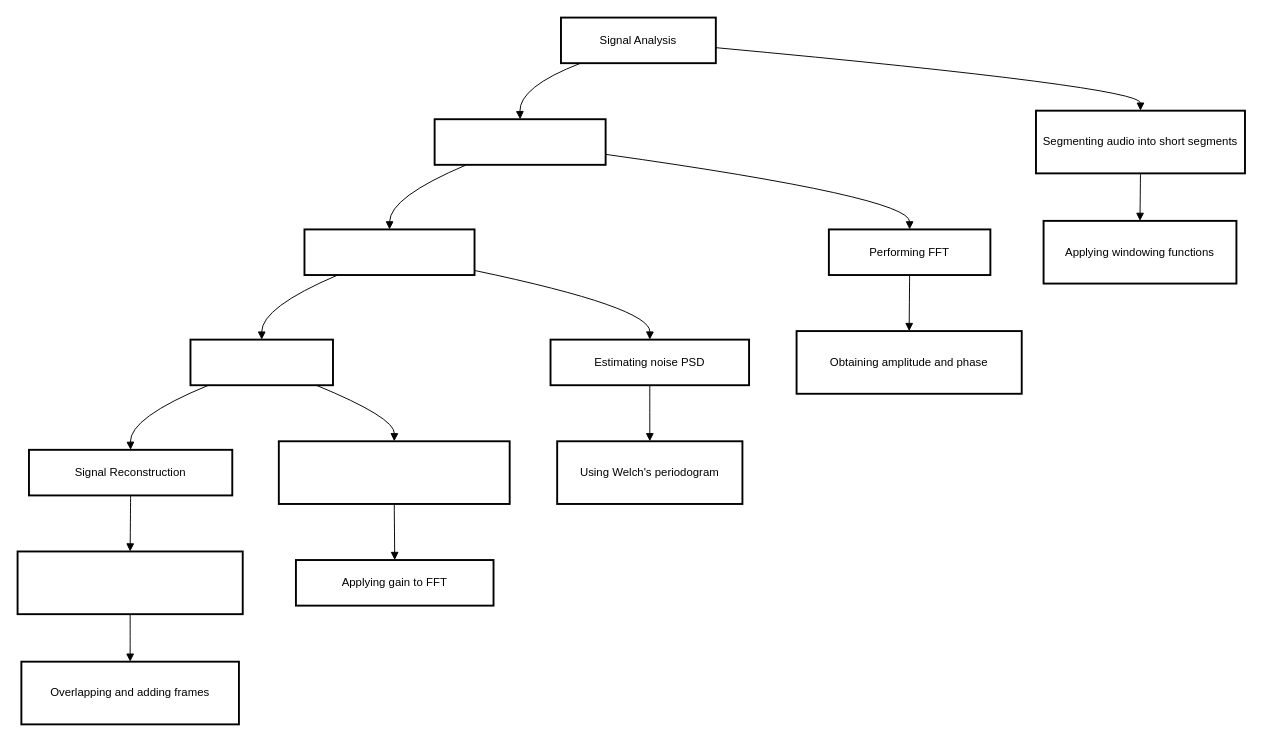
Image size: 1262x741. Some labels were removed from this diagram. Each missing label, with the centre of its shape:
Calculating gain based on SNR: point (393, 472)
Filter Design: point (261, 362)
Inverse FFT to transform signal: point (129, 582)
Noise Estimation: point (389, 252)
Spectral Analysis: point (519, 141)
